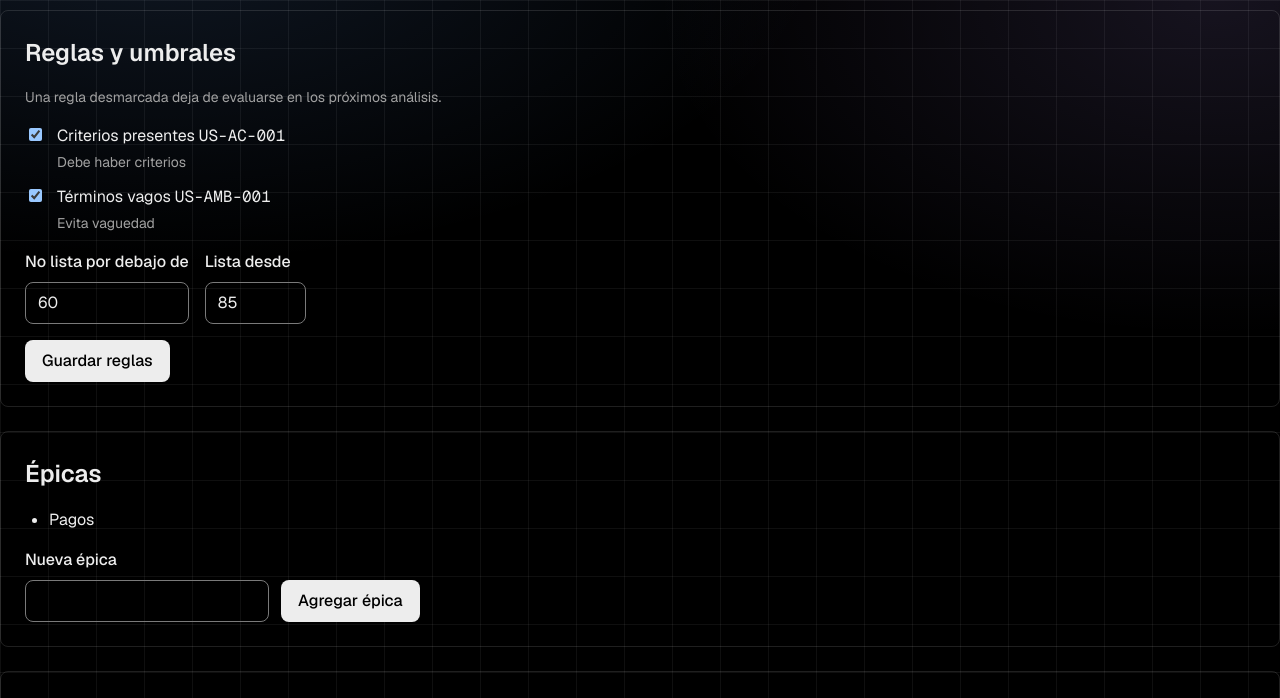
Test case: SettingsPage › muestra el detalle del 403 al guardar
(page scrolled)
Click the button "Guardar reglas" at (97, 361), box [25, 340, 170, 382]
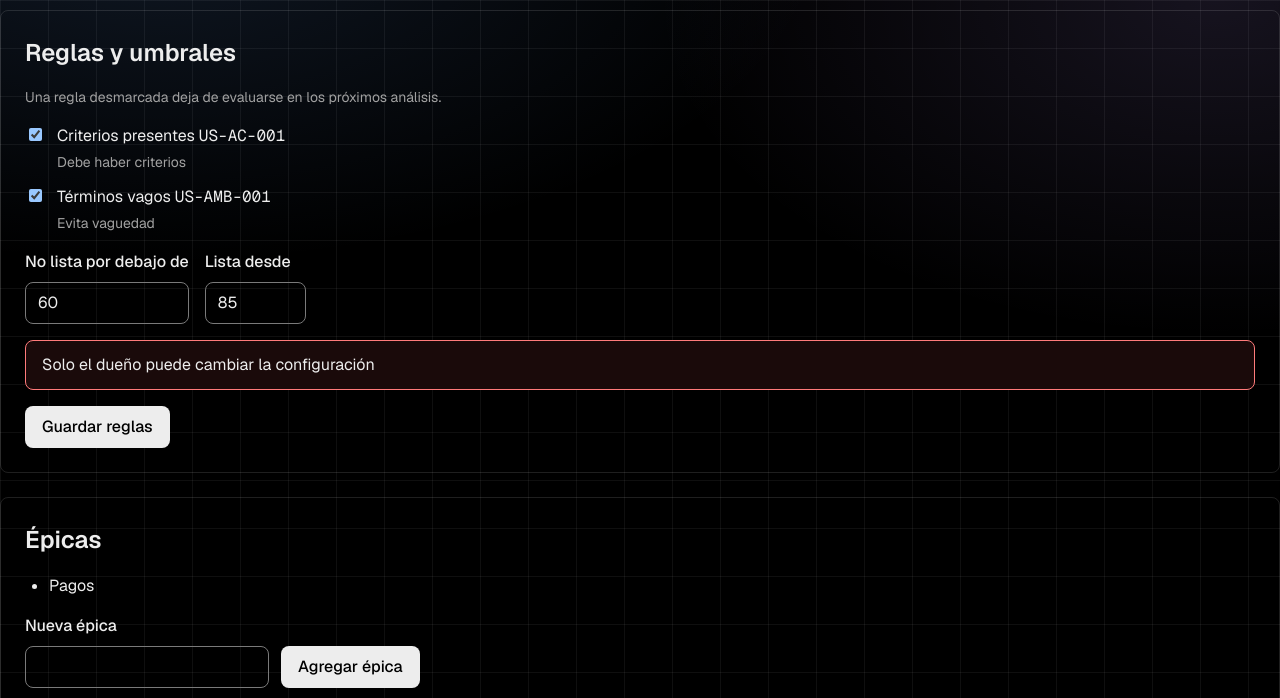
Now the text "Solo el dueño puede cambiar la configuración" is shown, box [42, 353, 375, 377]
